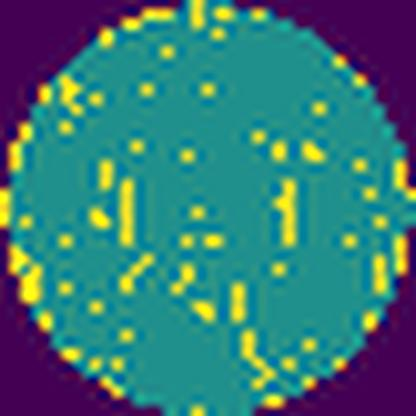Scratch: (271, 175, 301, 251), (114, 175, 142, 253)
